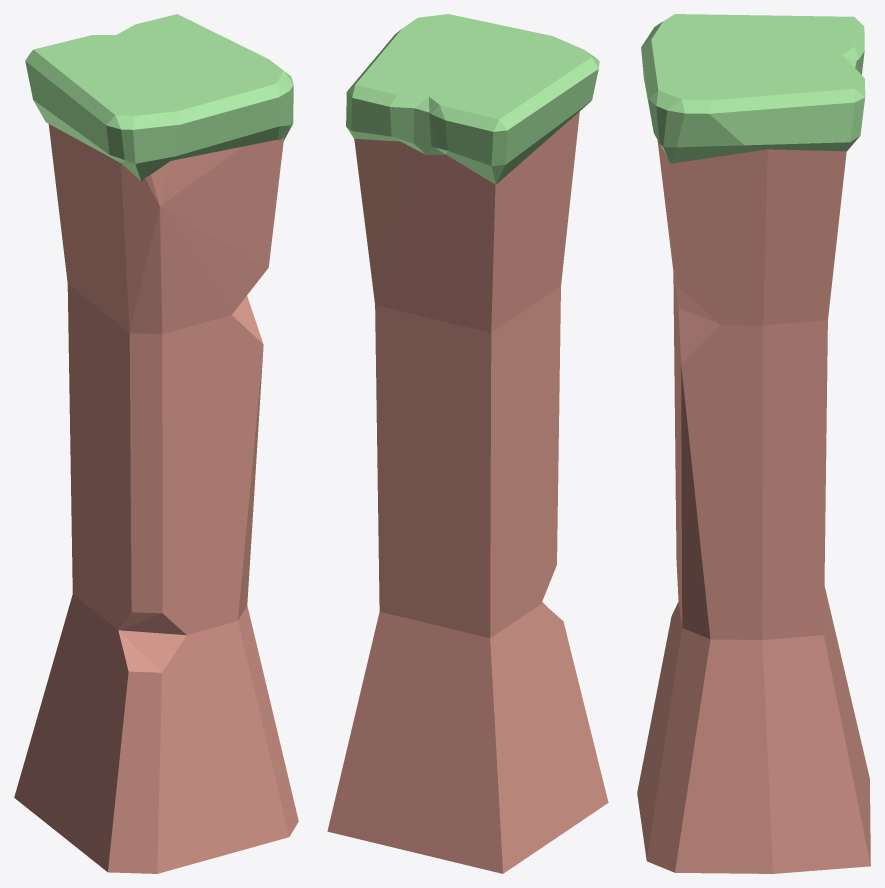
The model's file is Plane_004_Vlad.fbx.
3 views of the same model, side by side, from view 1: azimuth 30°, elevation 25°; view 2: azimuth 150°, elevation 25°; view 3: azimuth 270°, elevation 25° (orthographic). The views are drawn at different scales.
Parts seen in each view (by area): view 1: Plane.004; view 2: Plane.004; view 3: Plane.004.
Boxes of the visible parts, x1=… form: Plane.004: x1=14, y1=14, x2=298, y2=873; Plane.004: x1=327, y1=14, x2=608, y2=873; Plane.004: x1=637, y1=14, x2=870, y2=873.
Size of the model in its own units: 113 by 409 by 113.
